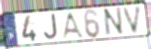4: (21, 14, 38, 43)
6: (82, 8, 102, 39)
A: (60, 11, 85, 41)
J: (42, 13, 59, 41)
N: (102, 6, 125, 38)
V: (121, 5, 144, 35)
